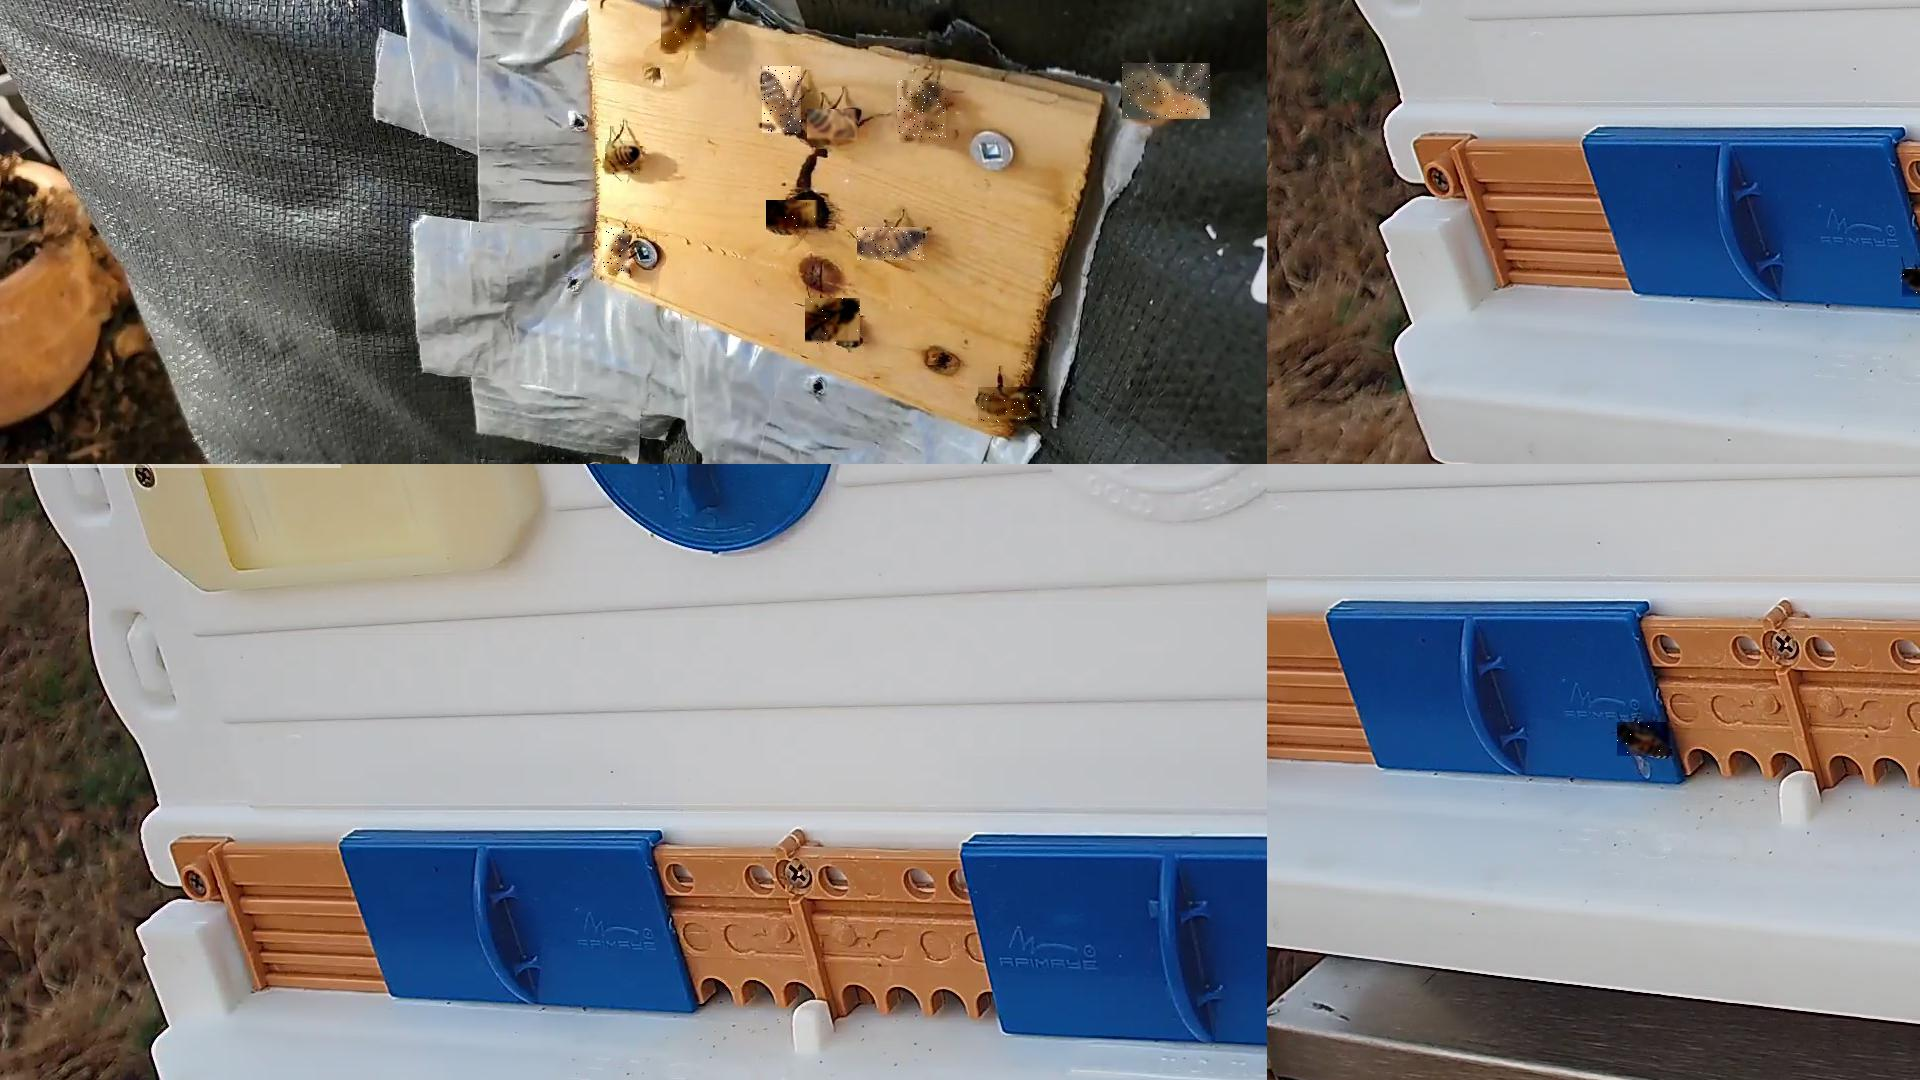bee: (1122, 63, 1211, 120), (897, 80, 947, 141), (762, 66, 802, 135), (806, 299, 861, 345), (978, 388, 1044, 426), (857, 227, 926, 261), (661, 8, 707, 54), (1618, 723, 1673, 757), (766, 200, 820, 233), (807, 109, 860, 142), (603, 228, 630, 274), (605, 141, 641, 177), (1902, 269, 1919, 301)
